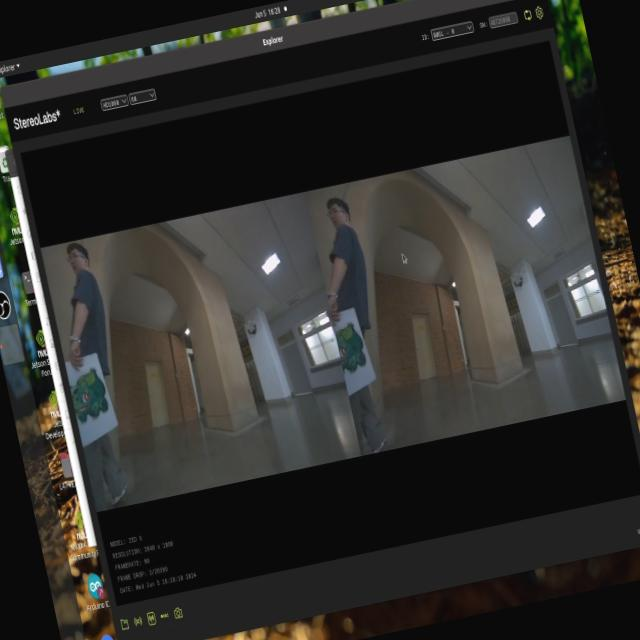green: (62, 351, 125, 434), (328, 316, 372, 378)
